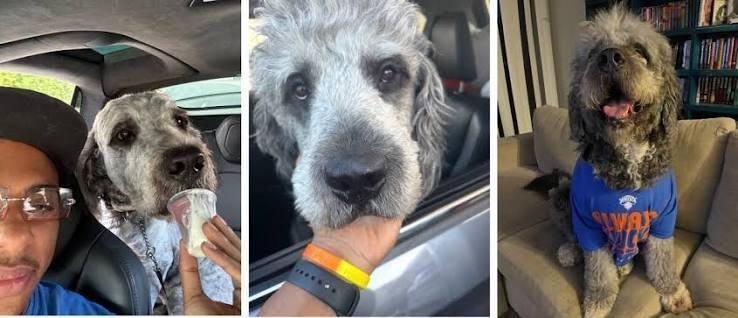adult_dog: (246, 2, 451, 235), (550, 2, 693, 318), (78, 88, 220, 317)
